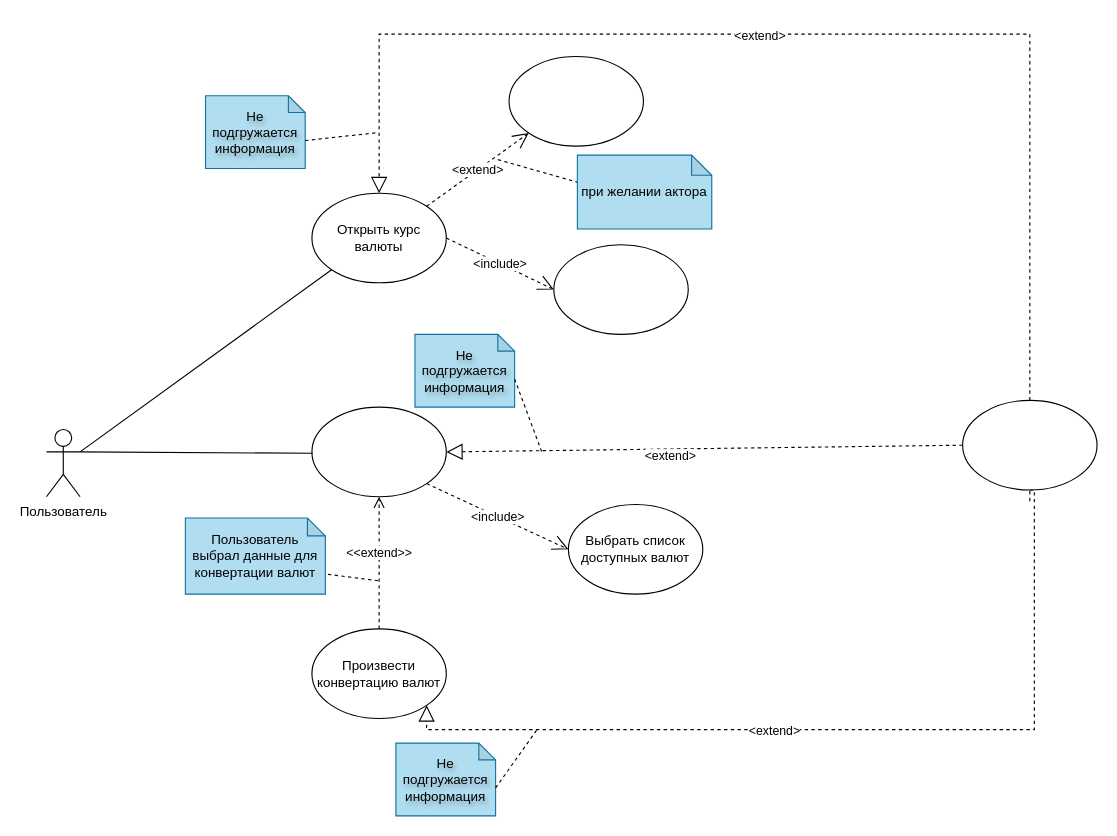
This 1117x836 diagram has some shape labels left out. The box of each missing label's shape, as (x1, y1, x2, y2) in pixels:
Обработать ошибку загрузки данных: (962, 399, 1097, 490)
Открыть конвертер валюты: (311, 406, 446, 497)
Просмотреть график изменения курса: (508, 55, 643, 146)
Просмотреть процентное изменение курса: (553, 244, 688, 334)
